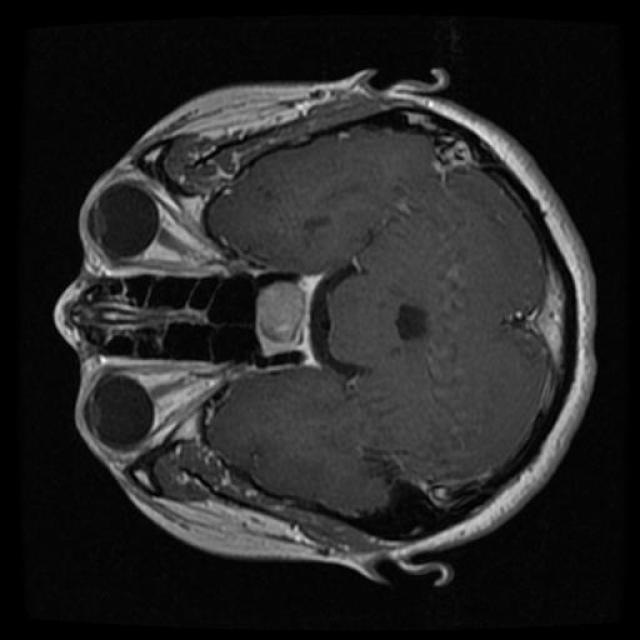Pituitary: (255, 275, 326, 367)
